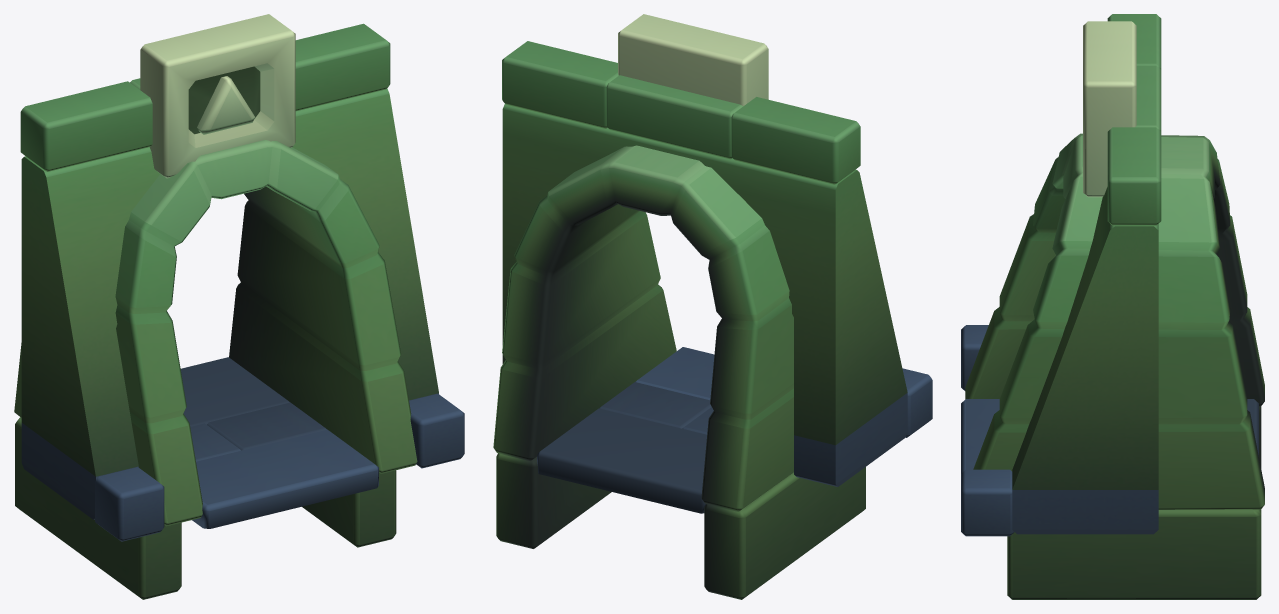
File: doorway_up_lower_wall_walkable.fbx
3 renders of one model, left to right at view 1: azimuth 30°, elevation 25°; view 2: azimuth 150°, elevation 25°; view 3: azimuth 270°, elevation 25°, orthographic. The views are drawn at different scales.
Parts seen in each view (by area): view 1: doorway_up_lower_wall_walkable; view 2: doorway_up_lower_wall_walkable; view 3: doorway_up_lower_wall_walkable.
Boxes of the visible parts, x1=… form: doorway_up_lower_wall_walkable: x1=14, y1=14, x2=464, y2=599; doorway_up_lower_wall_walkable: x1=493, y1=14, x2=932, y2=599; doorway_up_lower_wall_walkable: x1=961, y1=14, x2=1264, y2=599.
Bounding box in the file's own units: 405 × 552 × 311.
